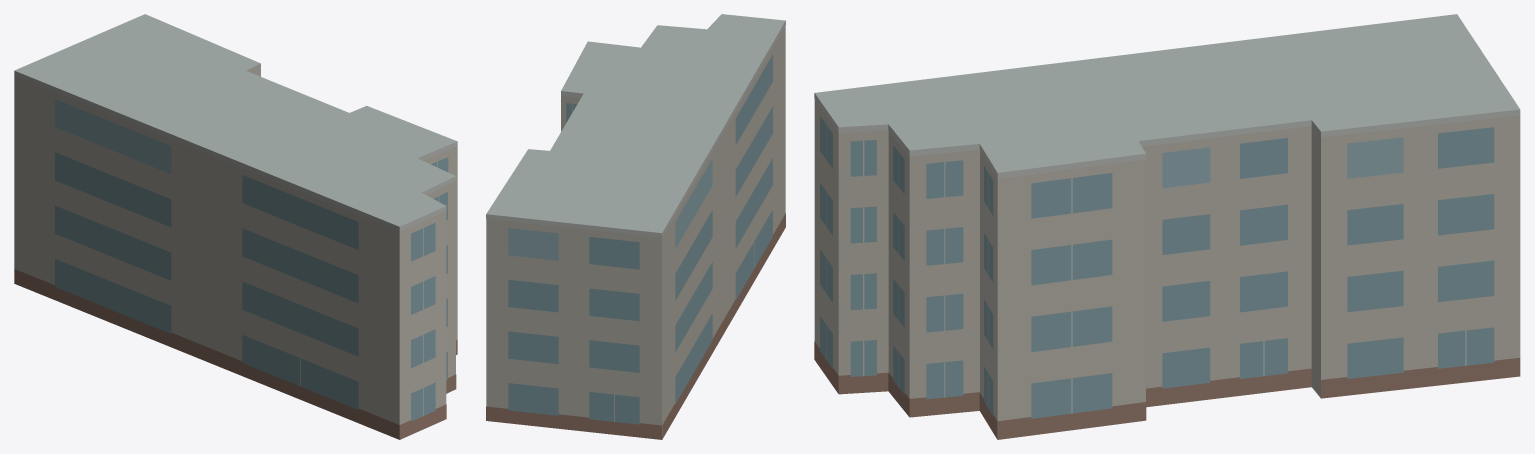
The model's file is survey-upis-32606283.glb.
The picture shows the model from 3 angles, left to right: view 1: azimuth 30°, elevation 25°; view 2: azimuth 150°, elevation 25°; view 3: azimuth 270°, elevation 25°; orthographic projection. The views are drawn at different scales.
Parts seen in each view (by area): view 1: survey-upis-32606283.tmp; view 2: survey-upis-32606283.tmp; view 3: survey-upis-32606283.tmp.
Part boxes in pixels (x1,y1,x2,y2): survey-upis-32606283.tmp: (14, 14, 457, 439); survey-upis-32606283.tmp: (486, 14, 785, 439); survey-upis-32606283.tmp: (814, 14, 1520, 439).
Bounding box in the file's own units: 14.19 × 11.1 × 26.61.
